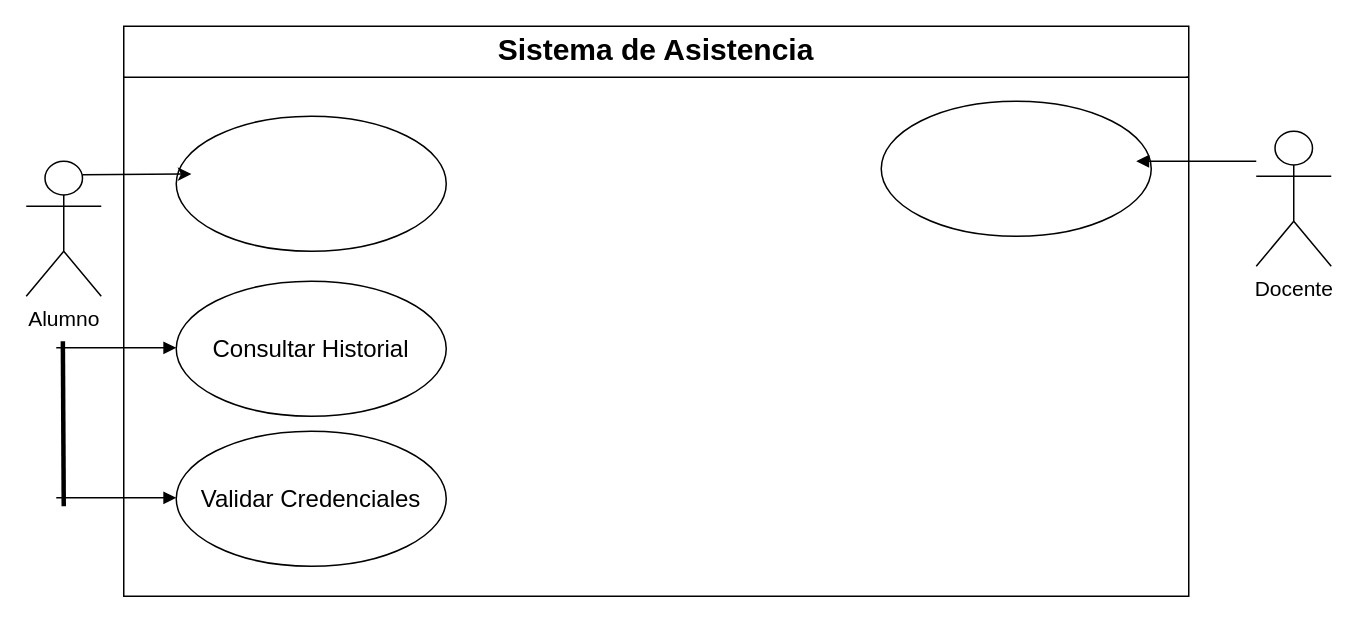
The diagram is 1359 pixels wide and 623 high, and some of its shapes have lost their labels. The centre of each missing label's shape, as x and y in pixels:
"Generar Reportes" belongs at (1015,168).
"Registrar Asistencia" belongs at (310,183).
